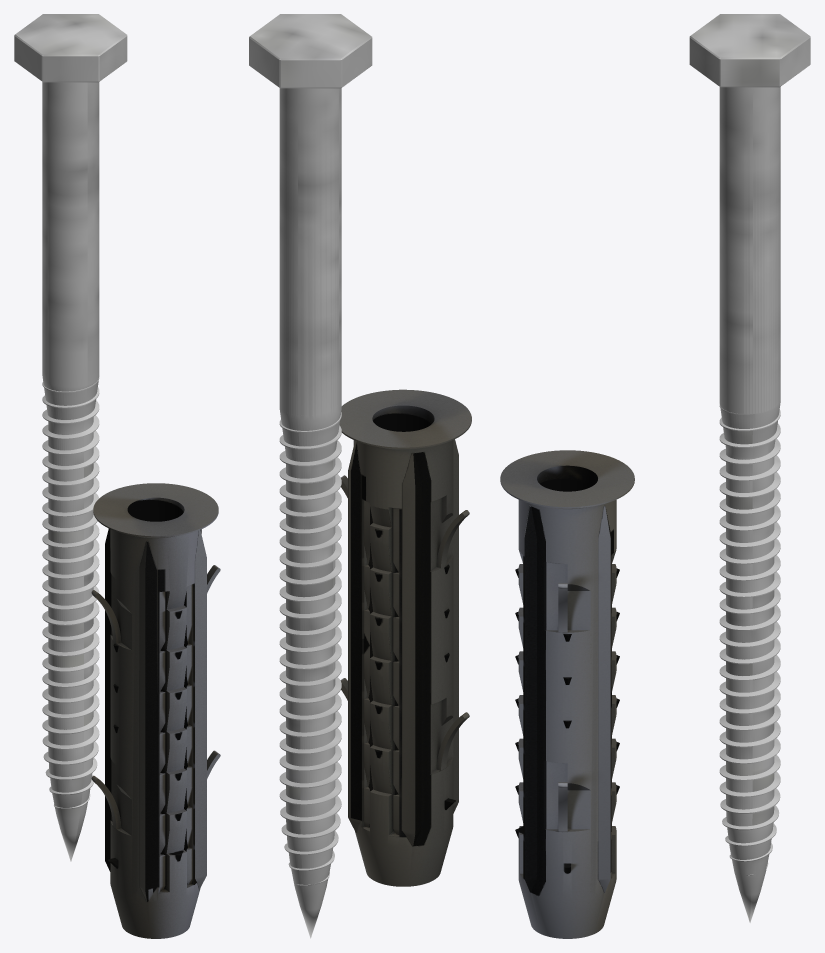
The model's file is KAXN_K.glb.
3 views of the same model, side by side, from view 1: azimuth 30°, elevation 25°; view 2: azimuth 150°, elevation 25°; view 3: azimuth 270°, elevation 25° (orthographic). The views are drawn at different scales.
Parts seen in each view (by area): view 1: SCREW, AXN.002; view 2: SCREW, AXN.002; view 3: SCREW, AXN.002.
Boxes of the visible parts, <box> form: SCREW: <box>14,14,127,861</box>; AXN.002: <box>91,483,220,938</box>; SCREW: <box>249,14,372,938</box>; AXN.002: <box>339,389,471,886</box>; SCREW: <box>689,14,810,922</box>; AXN.002: <box>500,450,634,938</box>.
Bounding box in the file's own units: 0.0123 × 0.0804 × 0.0254.
Materials: 2 (2 with a texture image).
